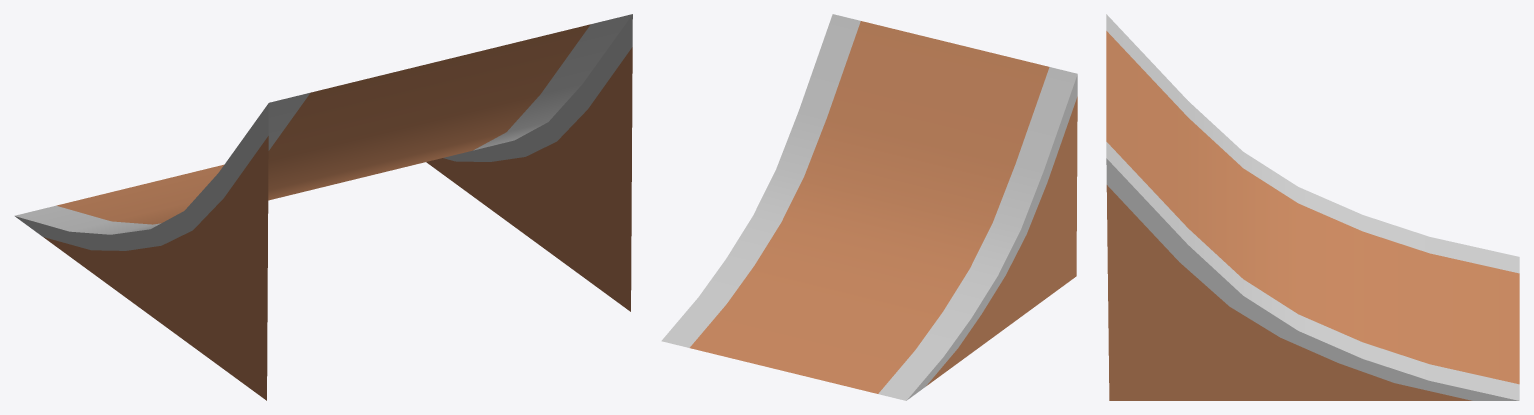
The model's file is terrain4.fbx.
3 renders of one model, left to right at view 1: azimuth 30°, elevation 25°; view 2: azimuth 150°, elevation 25°; view 3: azimuth 270°, elevation 25°, orthographic. The views are drawn at different scales.
Parts seen in each view (by area): view 1: terrain4; view 2: terrain4; view 3: terrain4.
Boxes of the visible parts, x1,y1,x2,y2 form: terrain4: [14, 14, 632, 400]; terrain4: [661, 14, 1077, 400]; terrain4: [1106, 14, 1519, 400].
Bounding box in the file's own units: 284 × 223 × 344.
